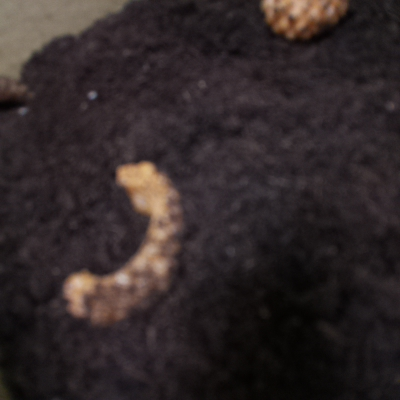eggs: (46, 156, 196, 332), (252, 1, 362, 47)
